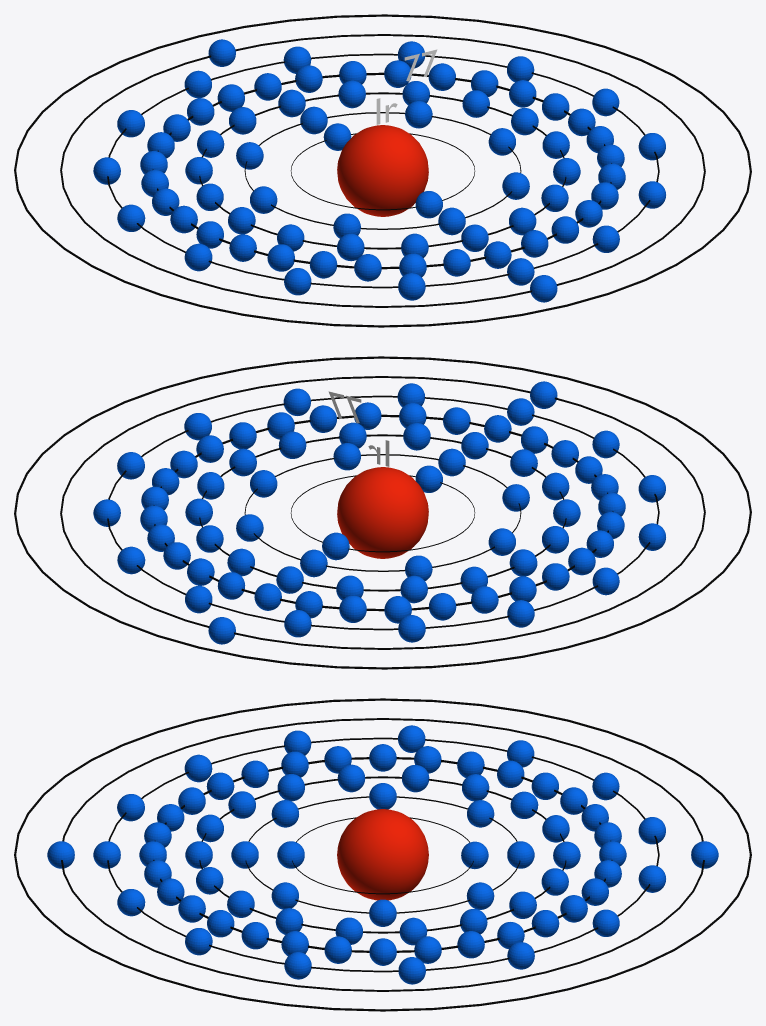
3 renders of one model, top to bottom at view 1: azimuth 30°, elevation 25°; view 2: azimuth 150°, elevation 25°; view 3: azimuth 270°, elevation 25°, orthographic.
Visible parts, largest first — view 1: Ir4, Ir3, Ir5, Proton, Ir2, n7, n6, n5, Ir6, Ir1, n3, n4 (+1 smaller); view 2: Ir4, Ir3, Ir5, Proton, Ir2, n7, n6, n5, Ir6, Ir1, n3, n4 (+1 smaller); view 3: Ir4, Ir3, Ir5, Proton, Ir2, n7, n6, n5, Ir1, Ir6, n3, n4 (+2 smaller).
Part boxes in pixels (box(x1,y1,x2,y2)): Ir4: box(140, 60, 625, 281); Ir3: box(185, 80, 580, 261); Ir5: box(93, 41, 665, 300); Proton: box(337, 125, 428, 216); Ir2: box(236, 101, 529, 238); n7: box(14, 14, 751, 327); n6: box(60, 34, 705, 307); n5: box(107, 53, 659, 288); Ir6: box(208, 39, 557, 302); Ir1: box(323, 123, 442, 218); n3: box(199, 92, 566, 249); n4: box(152, 72, 611, 269); Ir4: box(140, 402, 625, 623); Ir3: box(185, 422, 580, 603); Ir5: box(93, 383, 665, 642); Proton: box(337, 467, 428, 558); Ir2: box(236, 443, 529, 580); n7: box(14, 356, 751, 669); n6: box(60, 376, 705, 649); n5: box(107, 395, 659, 630); Ir6: box(208, 381, 557, 644); Ir1: box(322, 465, 442, 560); n3: box(199, 434, 566, 591); n4: box(153, 414, 613, 611); Ir4: box(139, 744, 626, 965); Ir3: box(185, 764, 580, 945); Ir5: box(93, 725, 665, 984); Proton: box(337, 809, 428, 900); Ir2: box(231, 783, 534, 926); n7: box(14, 698, 751, 1011); n6: box(61, 718, 704, 991); n5: box(107, 737, 659, 972); Ir1: box(277, 841, 488, 869); Ir6: box(47, 841, 718, 868); n3: box(199, 776, 566, 933); n4: box(153, 757, 612, 952).
Size of the model in its own units: 802 by 180 by 802.
